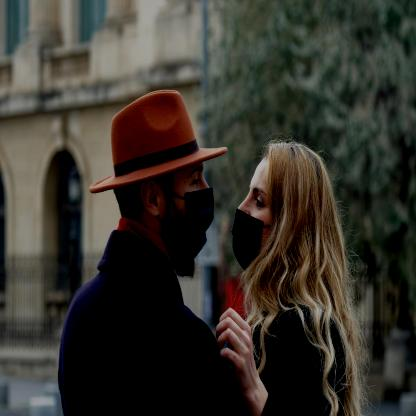dress: (58, 215, 247, 416), (240, 298, 344, 416), (165, 180, 213, 259), (230, 202, 262, 269)
